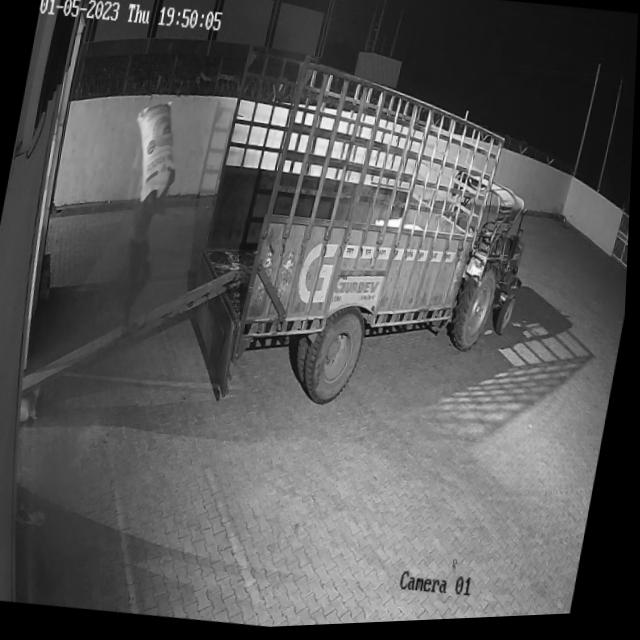sack: (125, 100, 187, 206)
